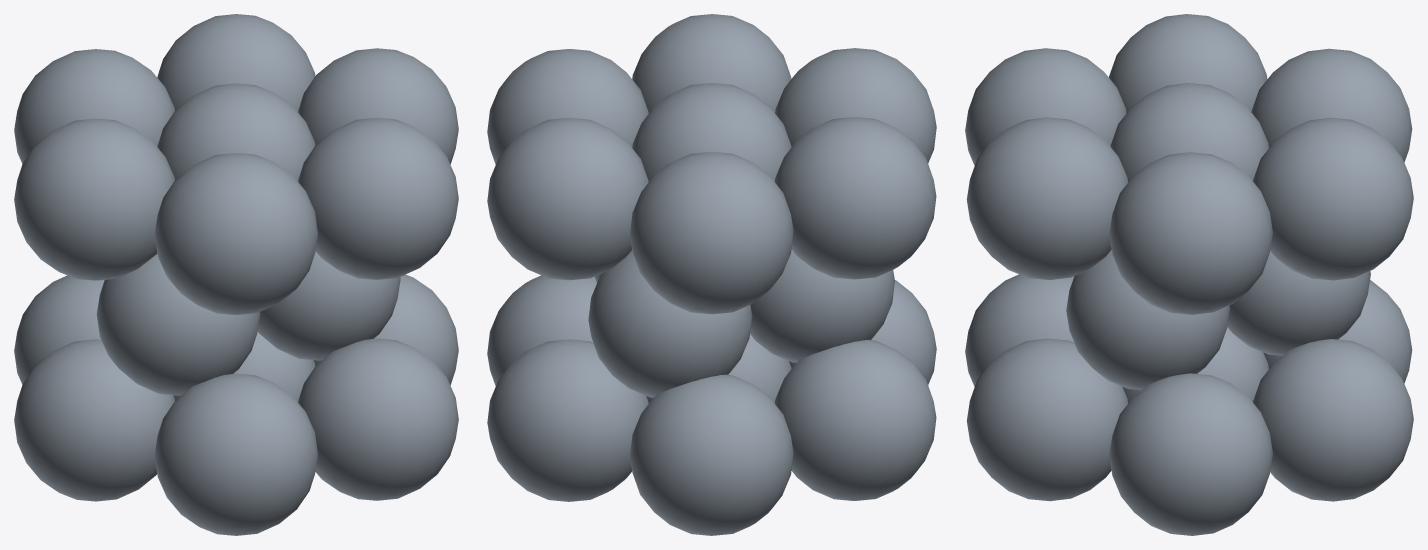
3 renders of one model, left to right at view 1: azimuth 30°, elevation 25°; view 2: azimuth 150°, elevation 25°; view 3: azimuth 270°, elevation 25°, orthographic.
Parts seen in each view (by area): view 1: 对象068; view 2: 对象068; view 3: 对象068.
Part boxes in pixels (x1=…): 对象068: x1=14, y1=14, x2=458, y2=535; 对象068: x1=487, y1=14, x2=936, y2=535; 对象068: x1=965, y1=14, x2=1413, y2=535.
Bounding box in the file's own units: 120 × 99.56 × 110.
1 material, 1 textured.
